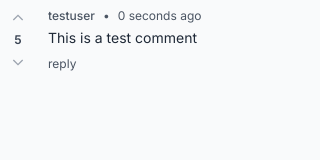
Test case: CommentItem › Reply › should show error when not authenticated and clicking reply
Click the button "reply".
click(62, 64)  # box [48,56,76,72]
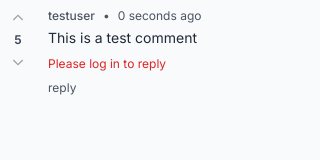
Expected: the text "Please log in to reply" is shown, [48,56,166,71]
